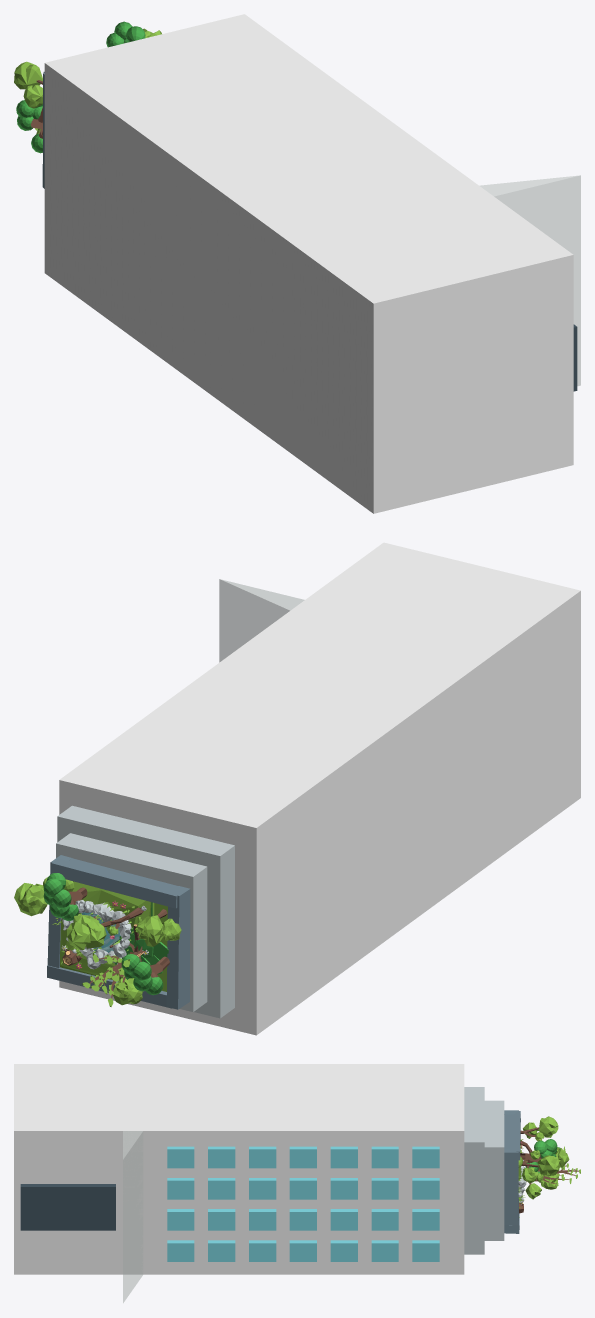
Rendered from building.glb.
The picture shows the model from 3 angles, top to bottom: view 1: azimuth 30°, elevation 25°; view 2: azimuth 150°, elevation 25°; view 3: azimuth 270°, elevation 25°; orthographic projection. The views are drawn at different scales.
Visible parts, largest first — view 1: Node; view 2: Node; view 3: Node.
Part boxes in pixels (<box>): Node: <box>14,14,580,513</box>; Node: <box>14,542,580,1035</box>; Node: <box>14,1064,580,1302</box>.
Bounding box in the file's own units: 10 × 7 × 25.
